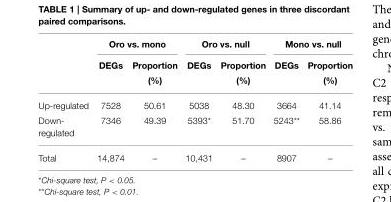table: (37, 37, 352, 162)
table column: (37, 37, 92, 162), (127, 37, 180, 162), (215, 37, 268, 162), (302, 37, 352, 162), (92, 37, 127, 162), (180, 37, 215, 162), (268, 37, 302, 162)
table column header: (37, 37, 352, 92)
table row: (37, 53, 352, 92), (37, 112, 352, 144), (37, 92, 352, 112), (37, 144, 352, 162), (37, 37, 352, 53)
table spanning cell: (92, 37, 180, 53), (180, 37, 268, 53), (268, 37, 352, 53)
